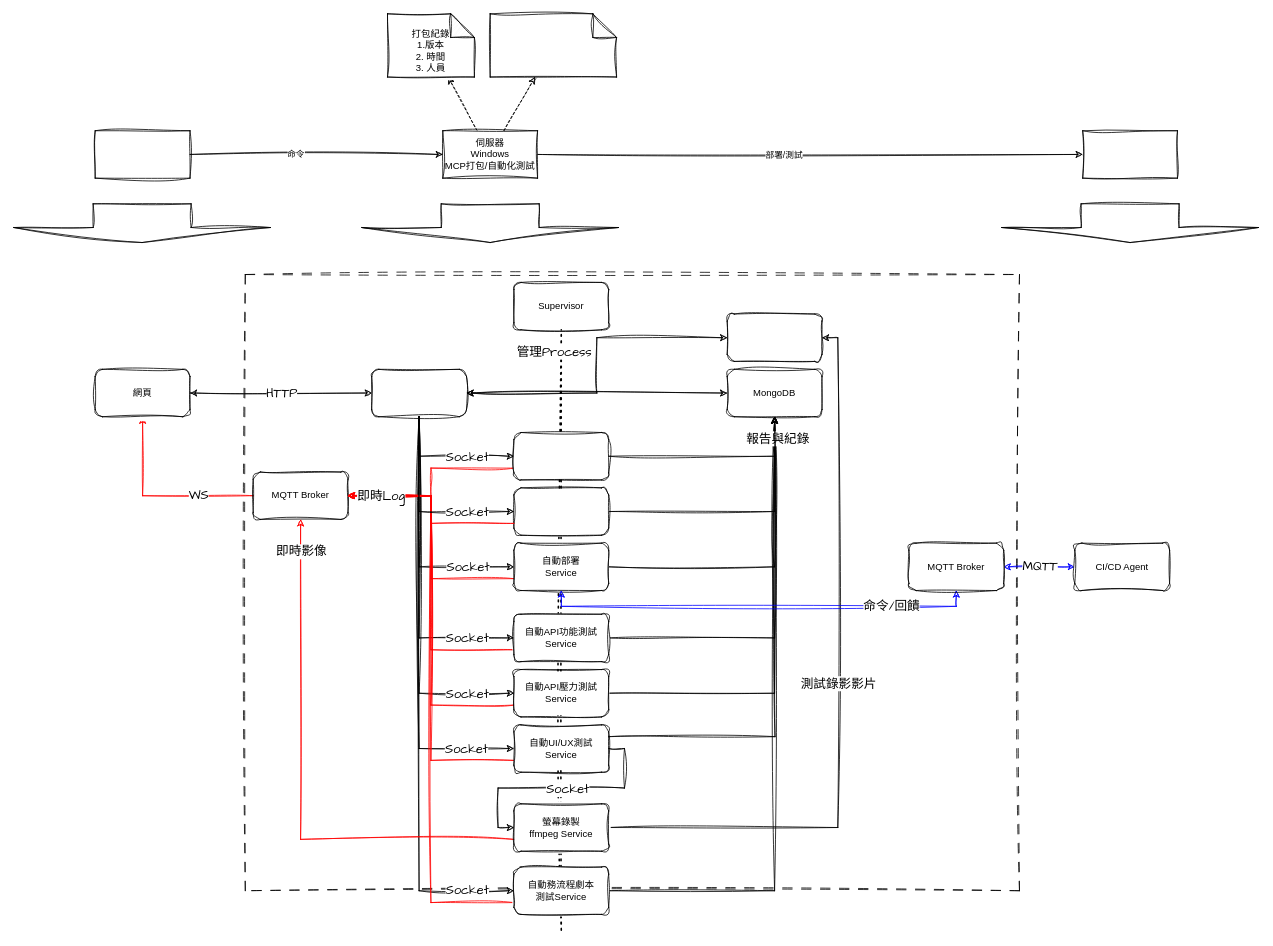
Image size: 1273x946. Some labels were removed from this diagram. Each missing label, with the centre of its shape:
CI/CD Server (Django): point 418,393
伺服器 Linux Ubuntu 22.04 Docker MCP部署: point 1129,154
個人電腦 Windows MCP開發: point 142,154
檔案櫃: point 774,337
測試報告 1. 測試錄影 2. API功能測試報告 3. API壓力測試報告: point 553,45
自動容器化 Service: point 561,511
自動打包 Service: point 561,456
